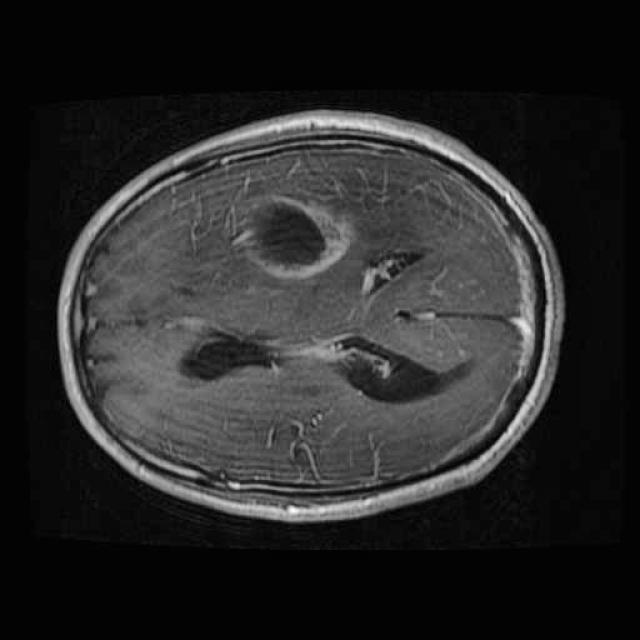Non-Tumor: (218, 185, 360, 288)
